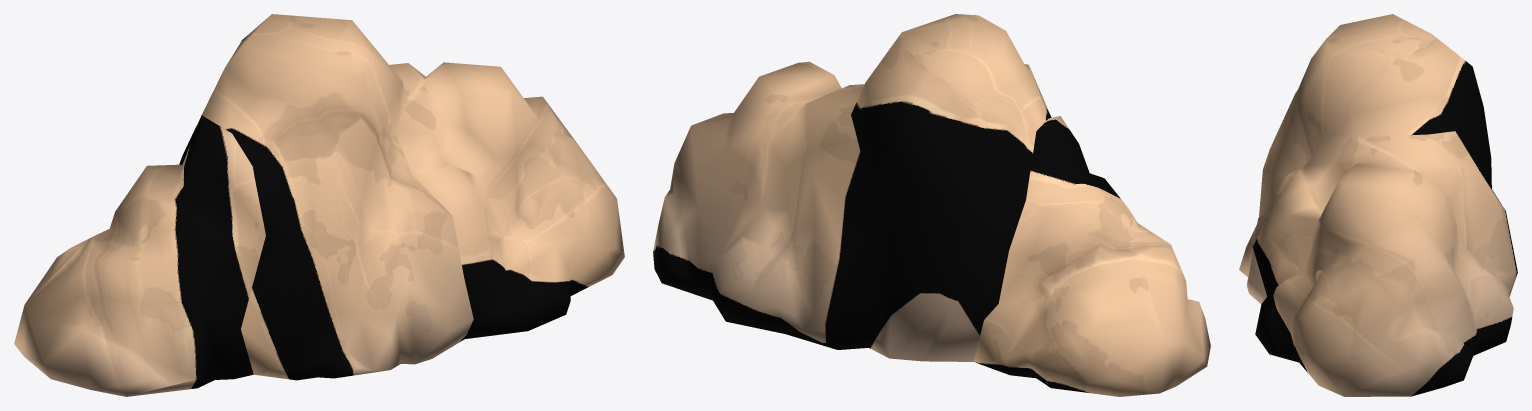
File: Rock_4.fbx
The picture shows the model from 3 angles, left to right: view 1: azimuth 30°, elevation 25°; view 2: azimuth 150°, elevation 25°; view 3: azimuth 270°, elevation 25°; orthographic projection. The views are drawn at different scales.
Parts seen in each view (by area): view 1: Rock_4; view 2: Rock_4; view 3: Rock_4.
Boxes of the visible parts, bbox=[...] form: Rock_4: bbox=[14, 14, 624, 396]; Rock_4: bbox=[653, 14, 1210, 396]; Rock_4: bbox=[1239, 14, 1517, 396].
Bounding box in the file's own units: 602 × 288 × 305.
